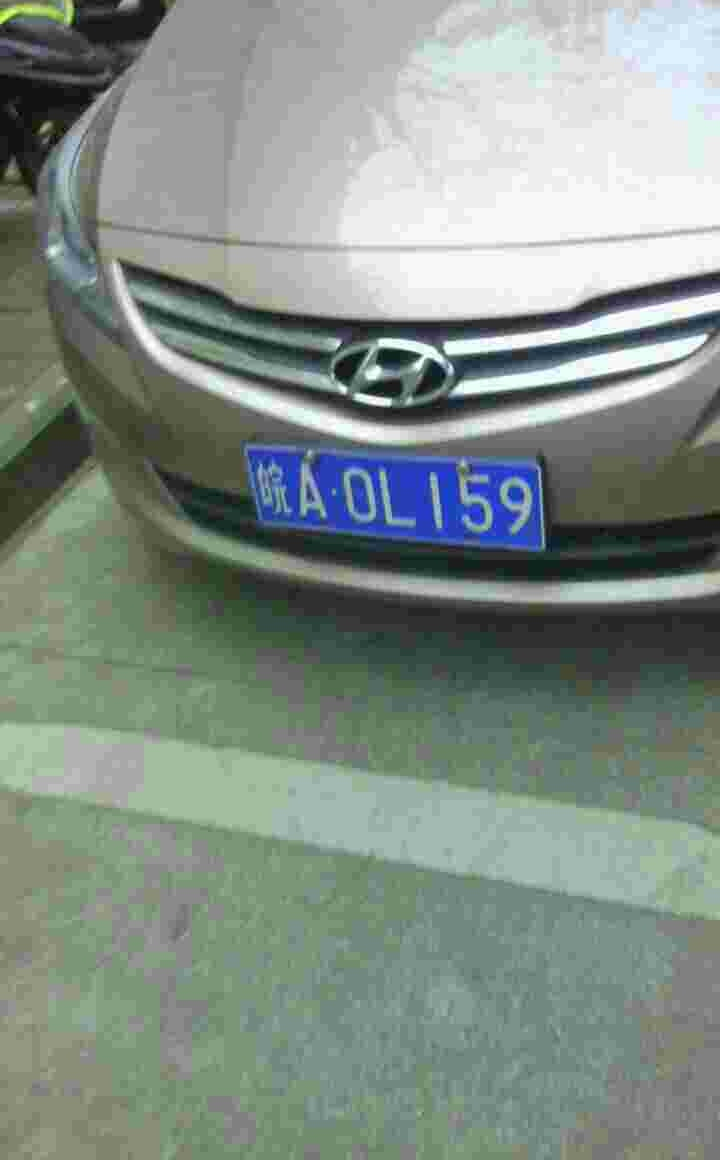license_plate: (242, 444, 549, 557)
